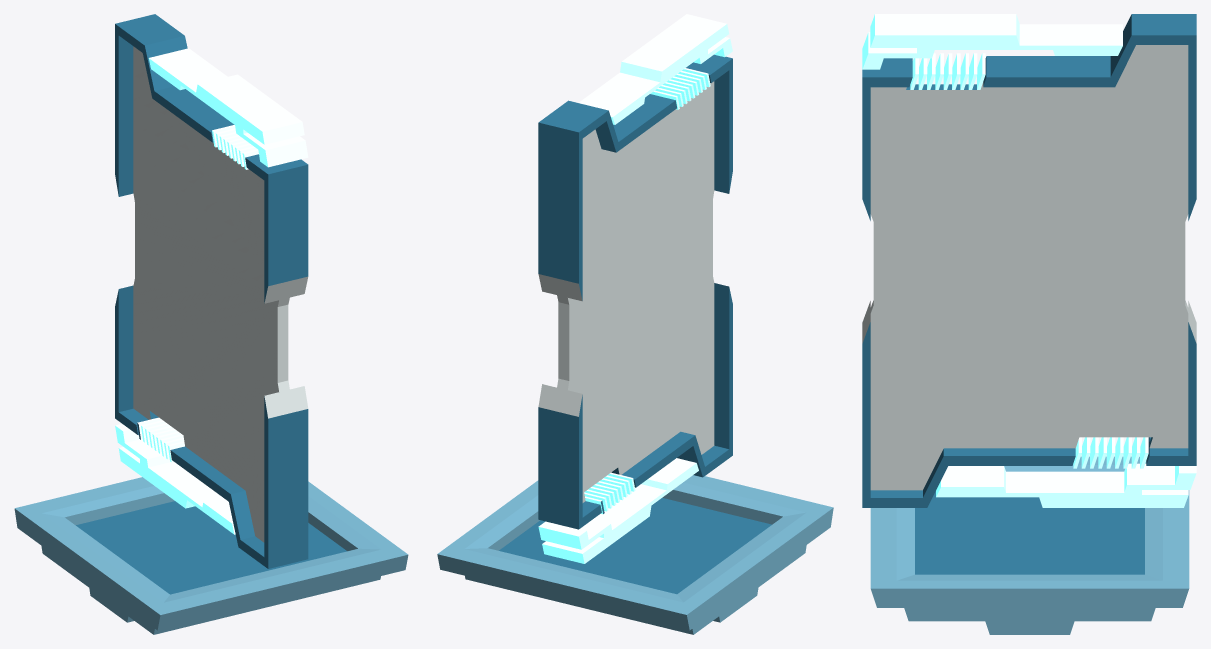
Rendered from Artefak Video Tron Potrait BEN VR GBL & GBL.fbx.
3 renders of one model, left to right at view 1: azimuth 30°, elevation 25°; view 2: azimuth 150°, elevation 25°; view 3: azimuth 270°, elevation 25°, orthographic. The views are drawn at different scales.
Parts seen in each view (by area): view 1: VideoTron_Potrait, VideoTron_Potrait_MagneticField; view 2: VideoTron_Potrait, VideoTron_Potrait_MagneticField; view 3: VideoTron_Potrait, VideoTron_Potrait_MagneticField.
Part boxes in pixels (x1,y1,x2,y2): VideoTron_Potrait: (115, 14, 308, 568); VideoTron_Potrait_MagneticField: (14, 477, 408, 634); VideoTron_Potrait: (538, 14, 732, 563); VideoTron_Potrait_MagneticField: (437, 475, 833, 634); VideoTron_Potrait: (862, 14, 1196, 507); VideoTron_Potrait_MagneticField: (870, 456, 1189, 634).
Size of the model in its own units: 247 by 485 by 264.
